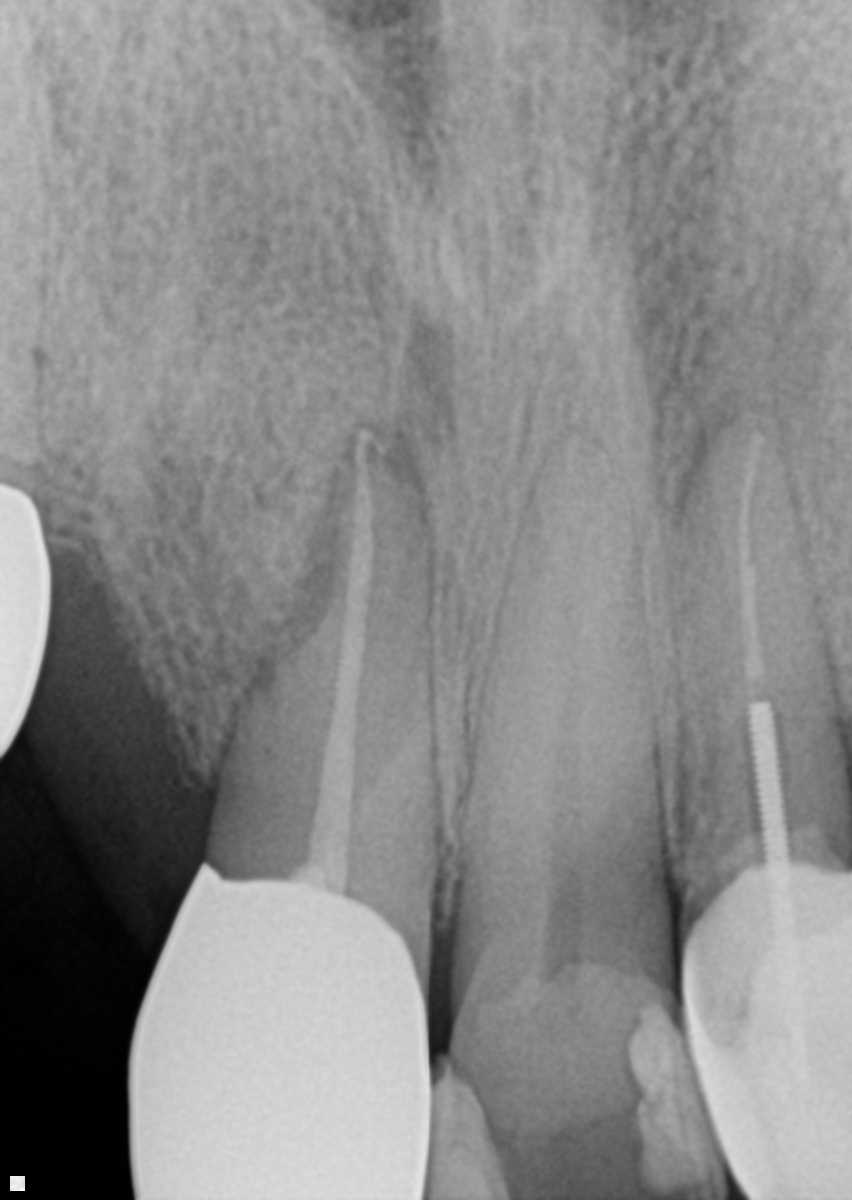Apical Lesion: (263, 418, 427, 666)
Main Canal: (547, 484, 595, 924)
Main Root: (443, 434, 680, 928), (205, 459, 448, 906), (663, 399, 852, 895)
Root Canal Filling: (289, 432, 375, 896), (736, 430, 766, 695)
